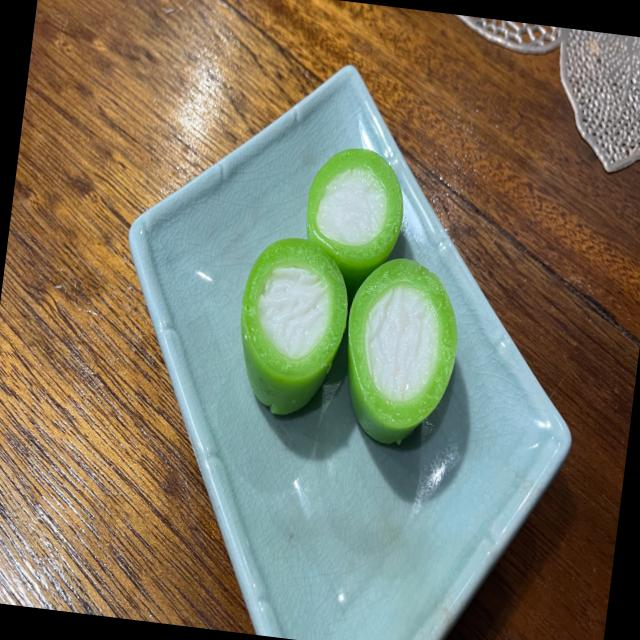nona-manis: (347, 258, 457, 444), (240, 238, 347, 414), (306, 148, 403, 299)
